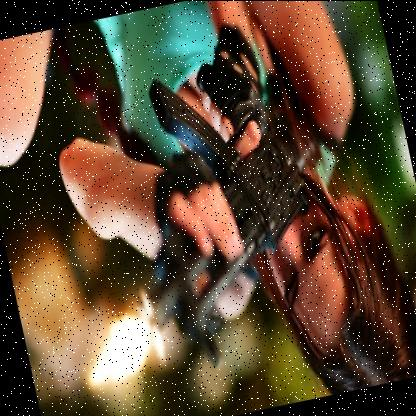rifle: (94, 45, 356, 380)
